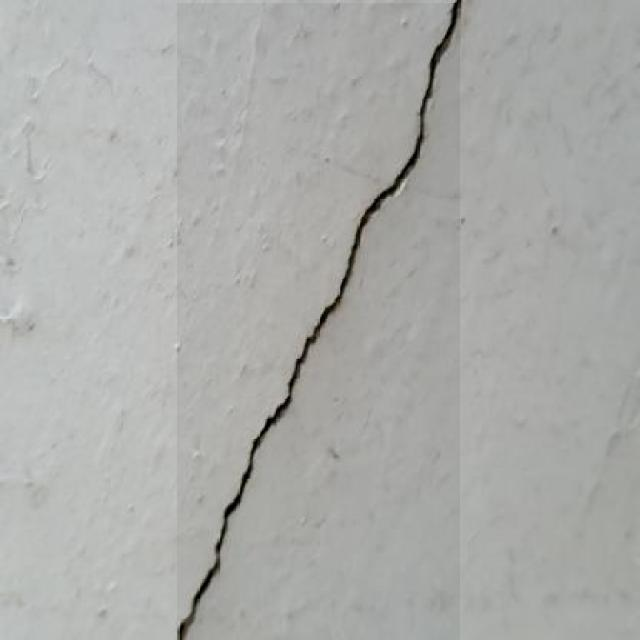diagonal crack: (178, 3, 460, 640)
